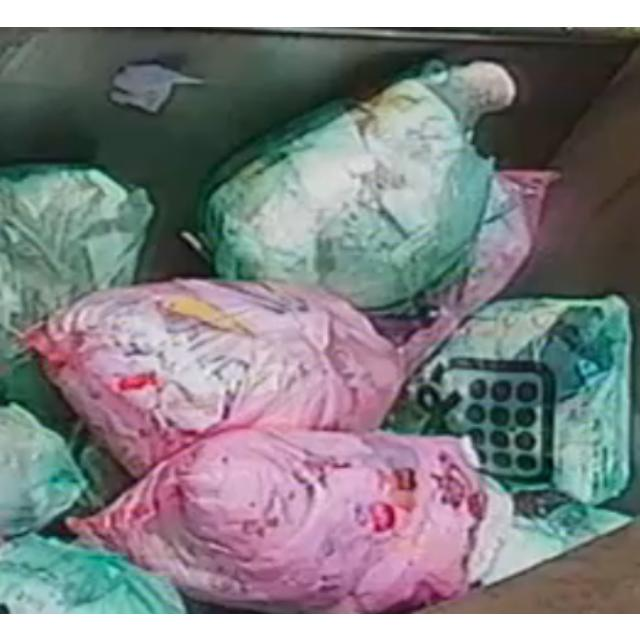general_trashbag: (202, 58, 516, 313), (386, 295, 630, 504), (0, 166, 154, 435), (0, 532, 185, 612), (0, 402, 86, 535)
other_trashbag: (69, 430, 511, 610), (28, 278, 401, 475)
